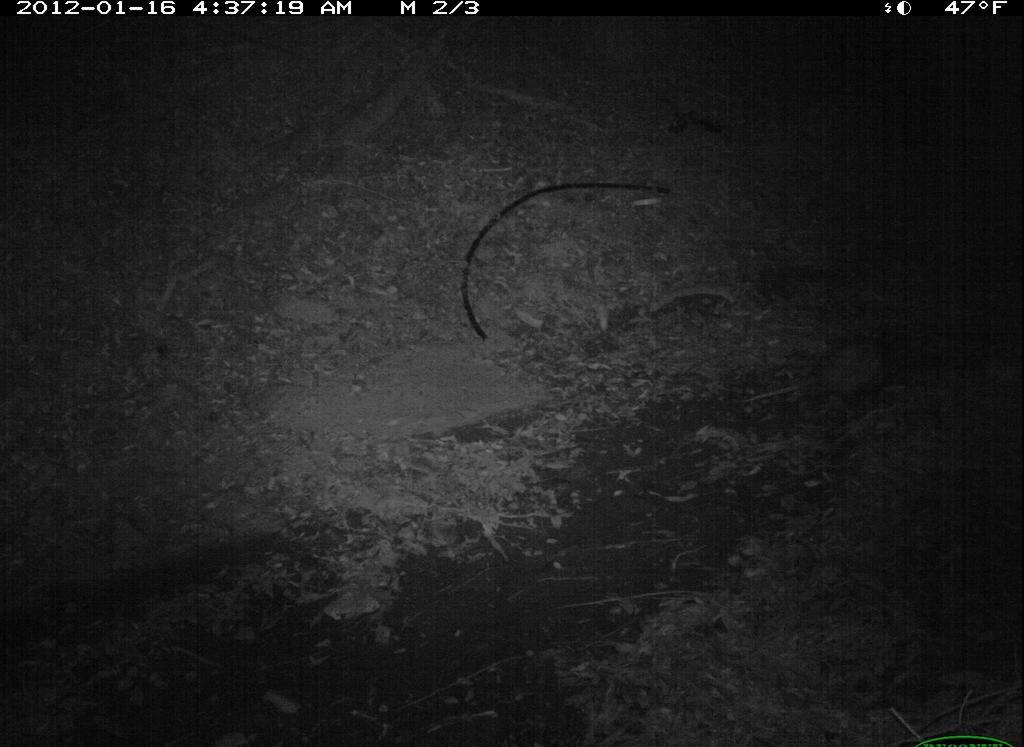opossum: (747, 328, 904, 413)
